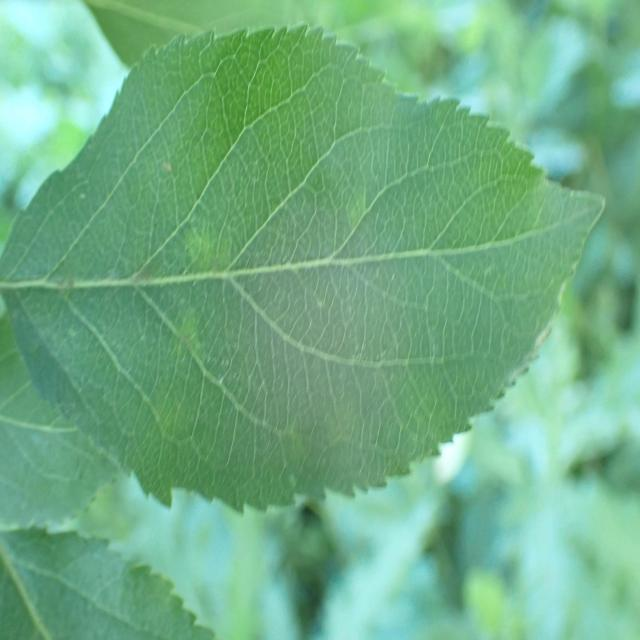scab: (34, 216, 227, 374)
